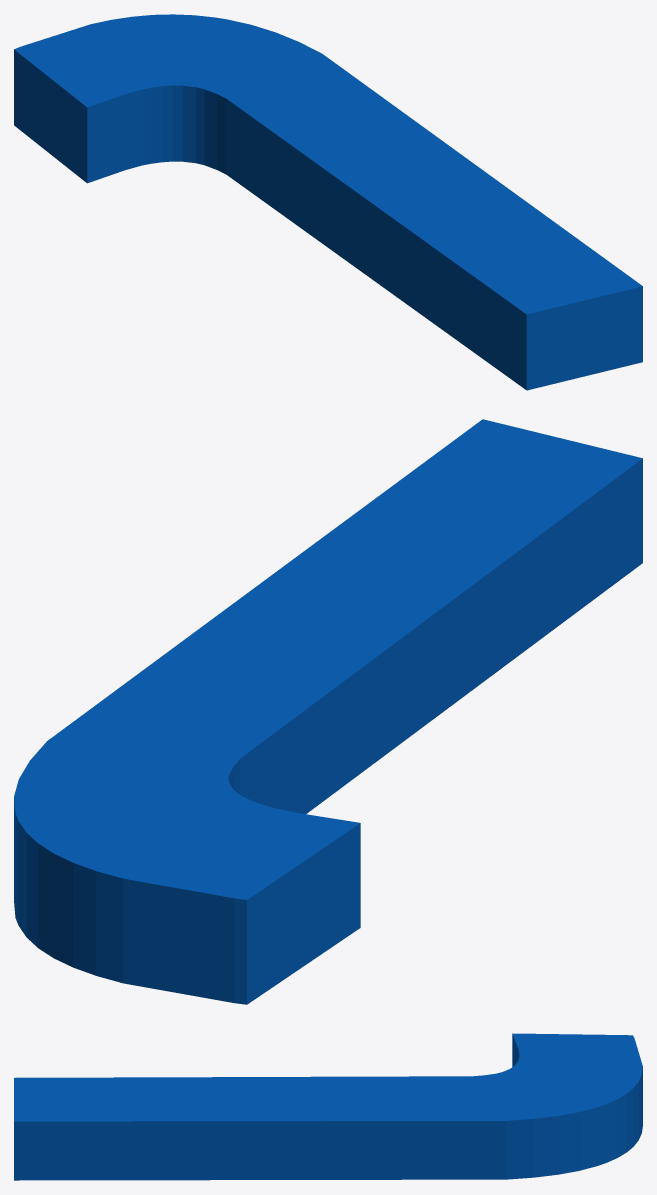
3 renders of one model, top to bottom at view 1: azimuth 30°, elevation 25°; view 2: azimuth 150°, elevation 25°; view 3: azimuth 270°, elevation 25°, orthographic. The views are drawn at different scales.
Parts seen in each view (by area): view 1: j; view 2: j; view 3: j.
Part boxes in pixels (x1,y1,x2,y2): j: [14, 14, 642, 390]; j: [14, 419, 642, 1004]; j: [14, 1033, 642, 1180].
Size of the model in its own units: 0.8042 by 0.25 by 2.42.
